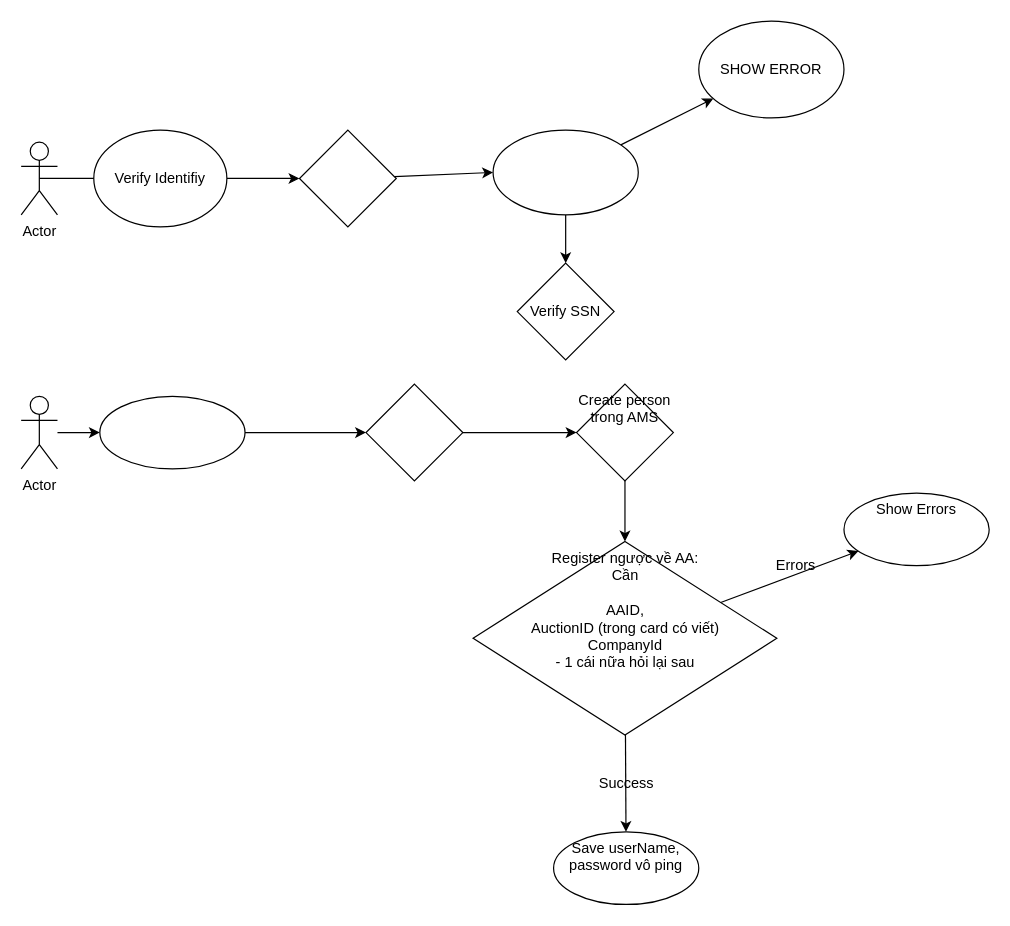
This 1010x926 diagram has some shape labels left out. Each missing label, with the centre of its shape:
"BFF Or BE" goes at pixel 565 172.
"Create User Name and password" goes at pixel 172 432.
"Get user information from AA by AAID" goes at pixel 414 432.
"Verify AA ID" goes at pixel 347 178.
